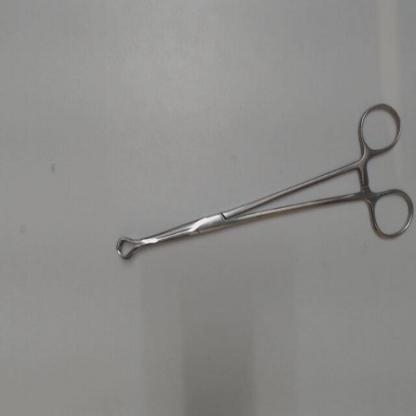8 Babcock Tissue Forceps: (111, 94, 415, 270)
